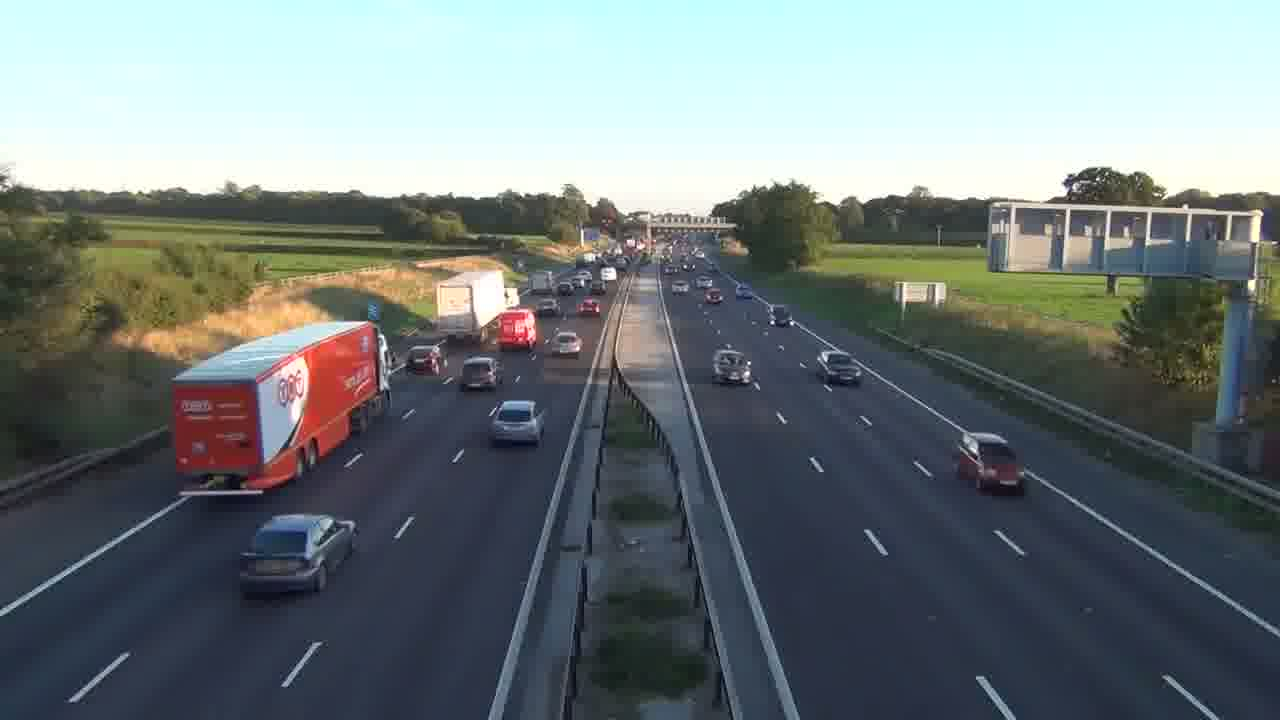car: (237, 512, 358, 597), (954, 431, 1027, 496), (488, 398, 547, 447), (816, 351, 863, 387), (461, 355, 502, 391), (548, 330, 582, 358), (577, 297, 601, 316)
truck: (171, 319, 384, 491), (435, 268, 509, 341)
